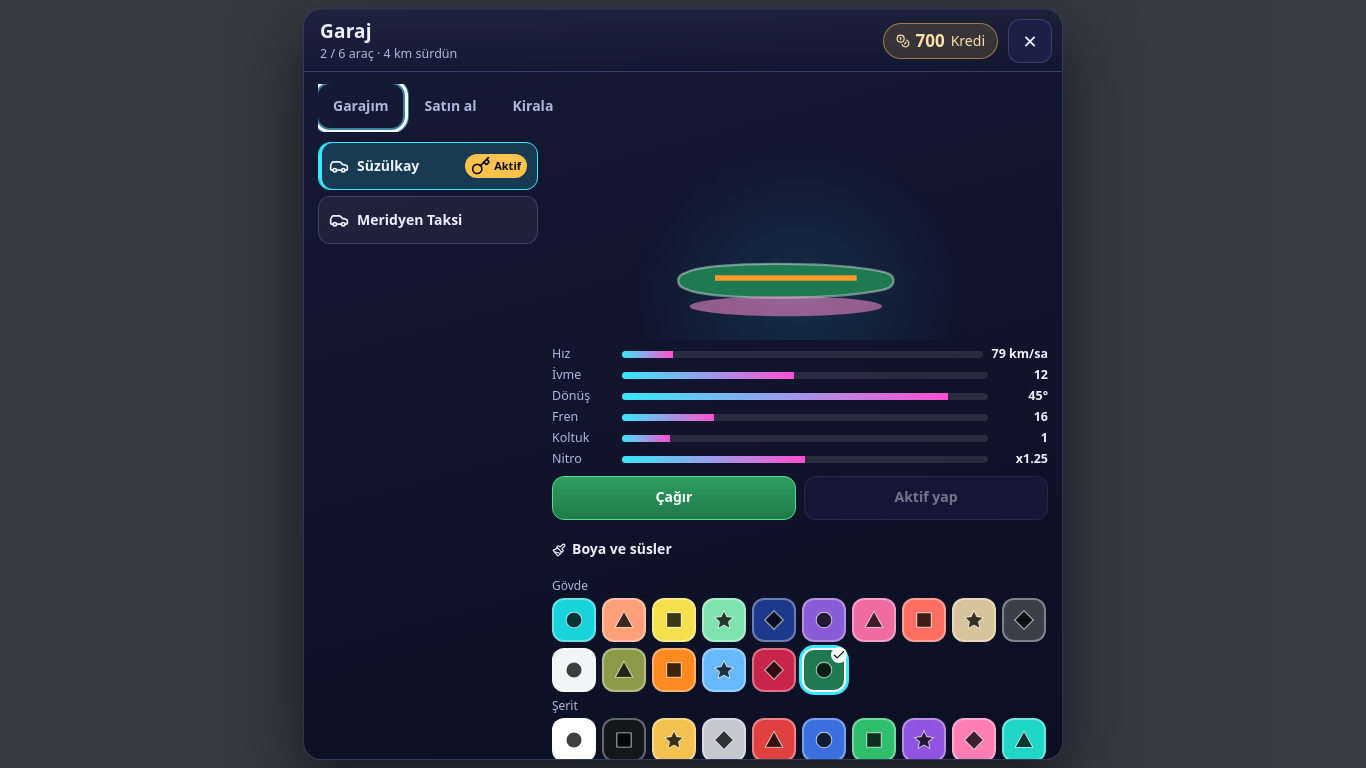
it: GaragePanel: Satın al ve Kirala › kiralık aktifken kalan süre gösterilir ve yeni kiralama kapalı
This screenshot has width=1366, height=768.
Step 1. Click the tab with test id "tab-rent" → point(533, 106), box left=498, top=84, right=568, bottom=128
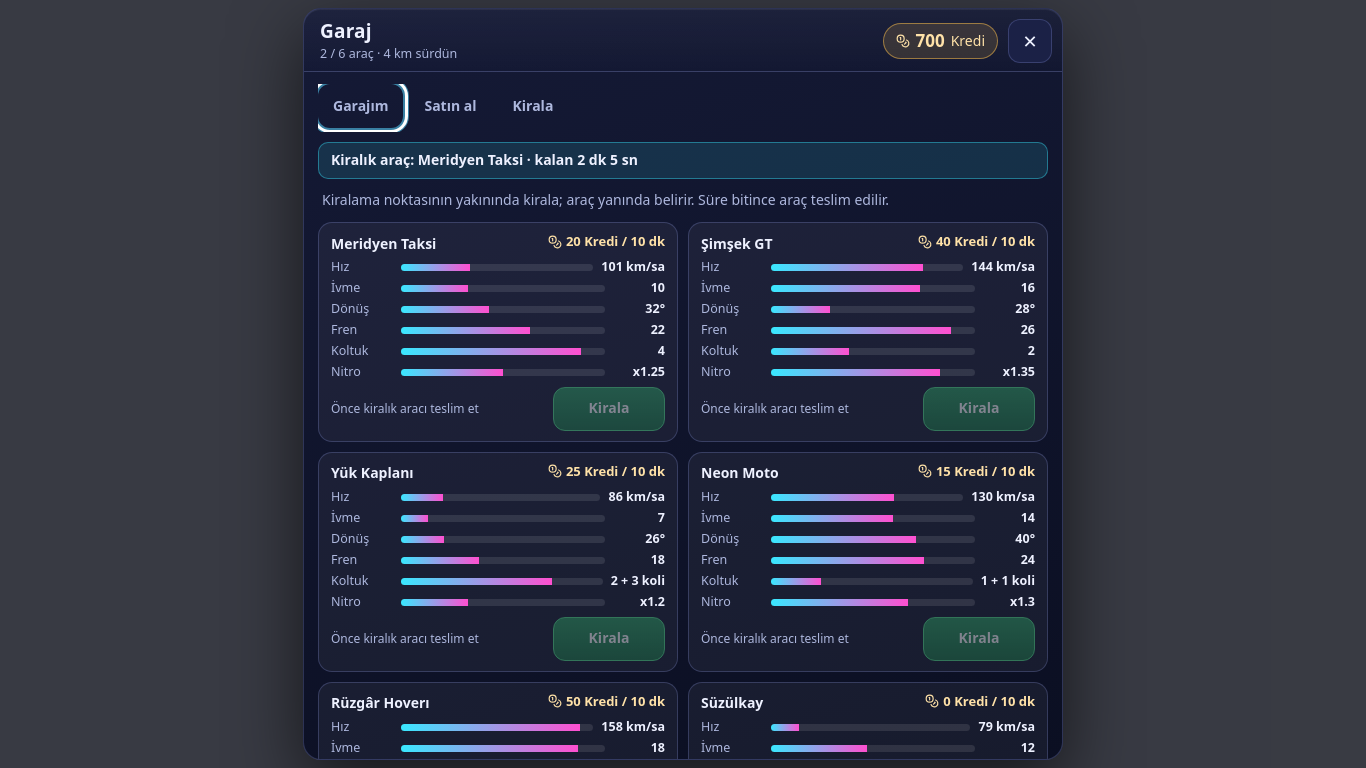
Result: the text with test id "rental-active" shows "Meridyen Taksi" at left=418, top=150, right=523, bottom=169
Result: the text with test id "rental-active" shows "2 dk 5 sn" at left=318, top=142, right=1048, bottom=179
Result: the button with test id "rentbtn-motor" is disabled at left=923, top=617, right=1035, bottom=661
